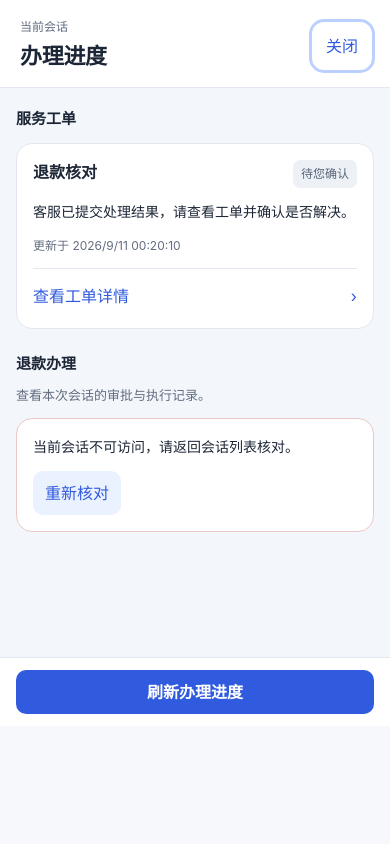
Test case: 当前会话办理进度 › 审批 HTTP 404 与无记录不同，工单可独立查看并能原地重试
The image size is (390, 844).
Expected: the message "当前会话不可访问，请返回会话列表核对。 重新核对" is shown, [16, 418, 374, 532]
Click the button "重新核对" at [77, 494], box [33, 472, 121, 516]
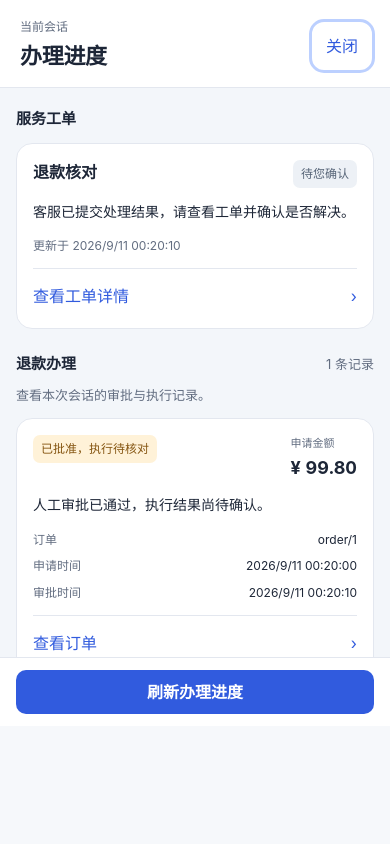
Now the text "已批准，执行待核对" is shown, box [33, 435, 157, 463]
